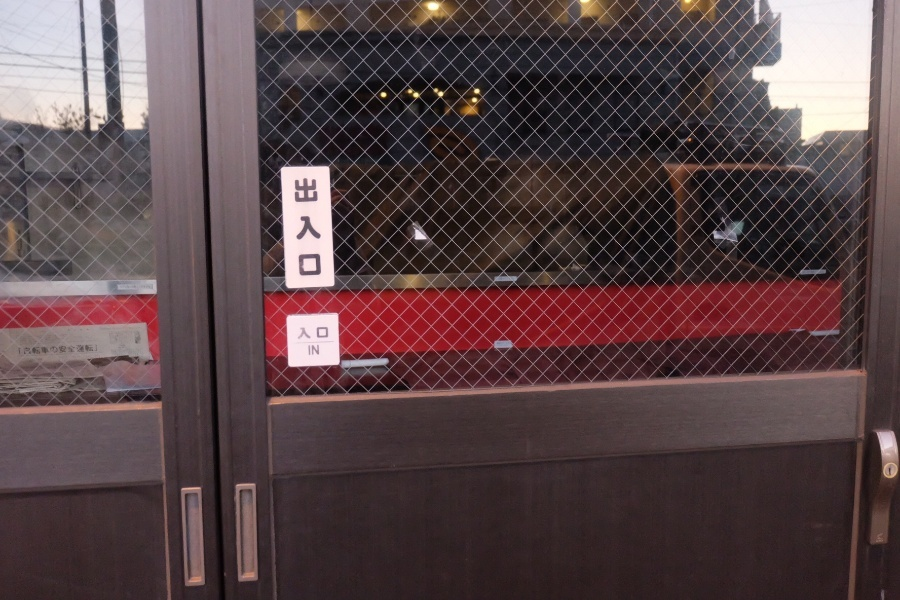text: (305, 178, 320, 278), (294, 178, 304, 278), (113, 330, 128, 357), (129, 330, 142, 357), (321, 178, 324, 278), (17, 343, 32, 359), (33, 343, 48, 359), (49, 343, 64, 359), (65, 343, 80, 359), (81, 343, 96, 359), (305, 326, 320, 340), (308, 345, 320, 358), (297, 326, 304, 340), (321, 326, 328, 340), (129, 285, 144, 289), (110, 330, 112, 357), (119, 285, 128, 289), (97, 343, 99, 359), (145, 285, 151, 289)
